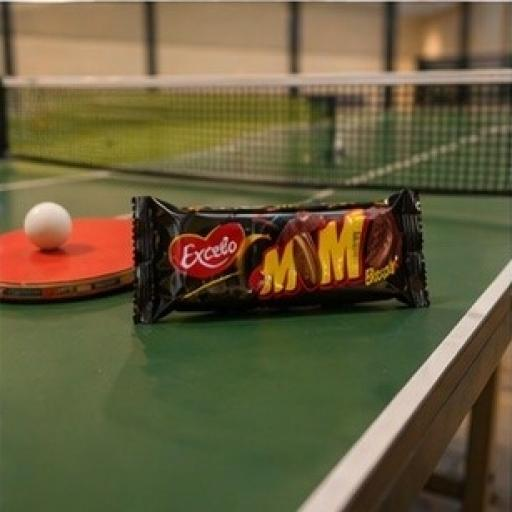MOMO: (76, 178, 434, 336)
